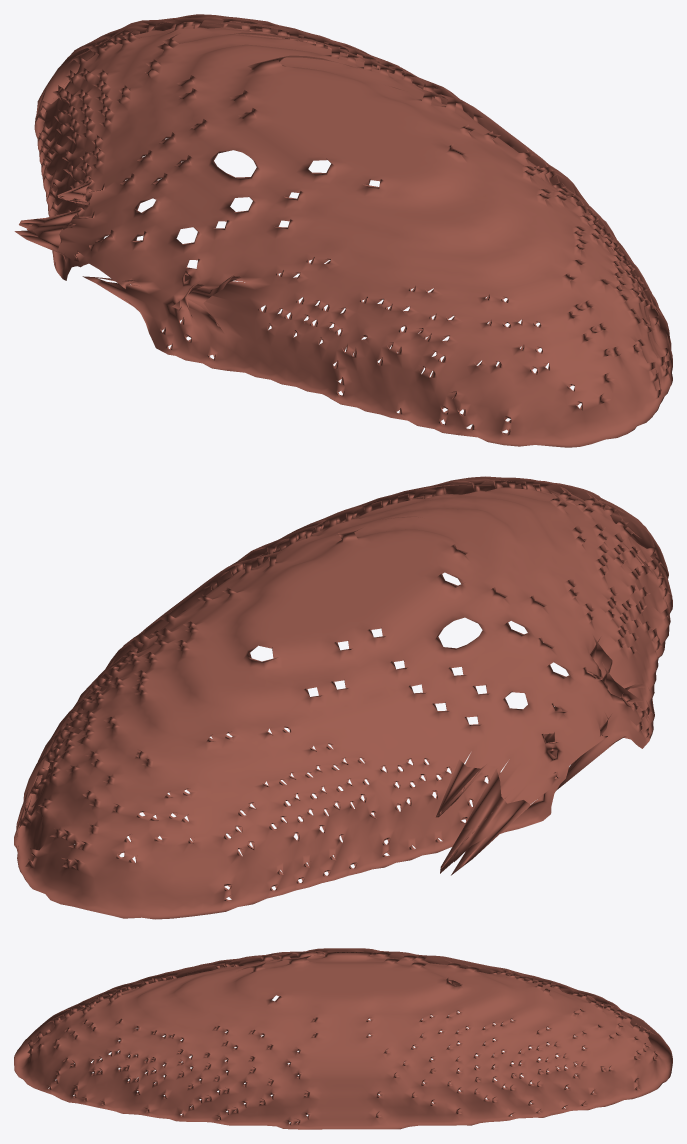
The model's file is renal_capsule.glb.
3 views of the same model, one above another, from view 1: azimuth 30°, elevation 25°; view 2: azimuth 150°, elevation 25°; view 3: azimuth 270°, elevation 25° (orthographic). The views are drawn at different scales.
Parts seen in each view (by area): view 1: geometry_0; view 2: geometry_0; view 3: geometry_0.
Boxes of the visible parts, x1,y1,x2,y2 form: geometry_0: (14, 14, 672, 447); geometry_0: (14, 476, 672, 919); geometry_0: (14, 948, 672, 1129).
Size of the model in its own units: 47.12 by 15.58 by 93.73.
